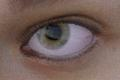eye: (38, 23, 70, 51)
